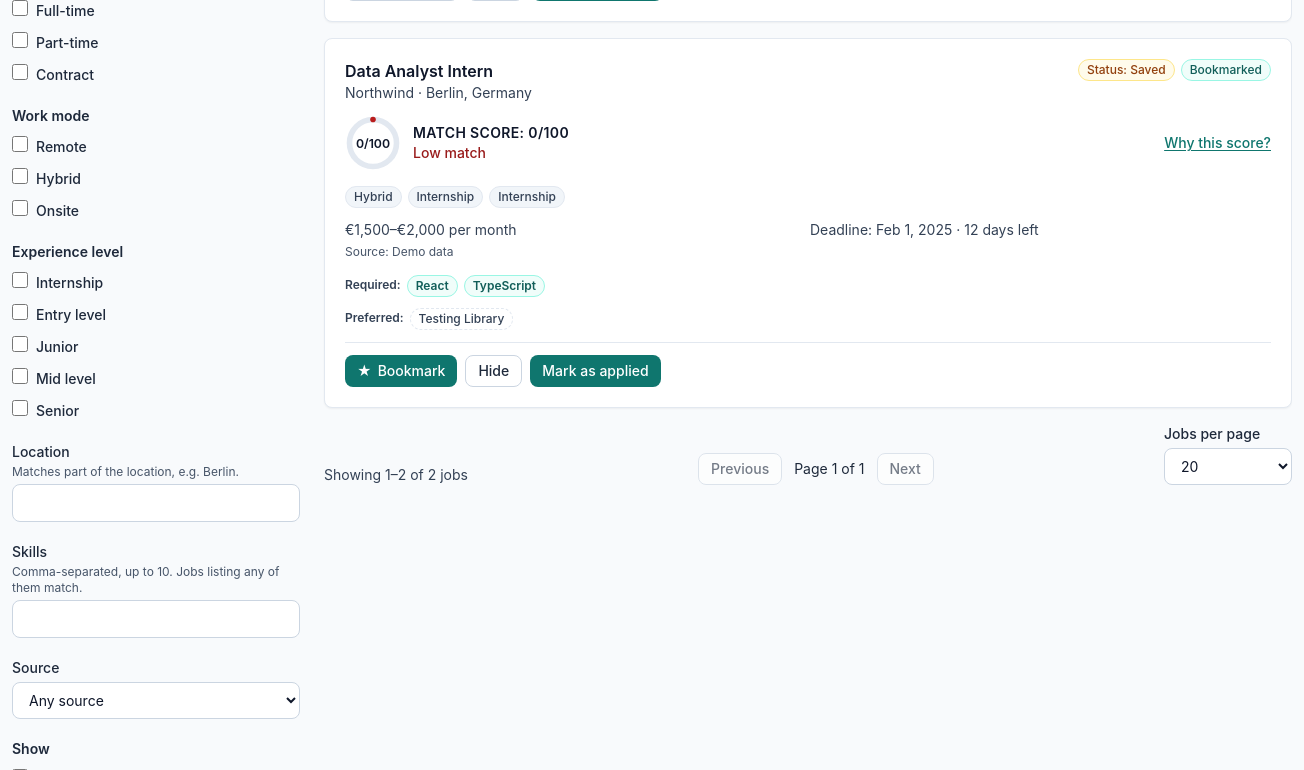
JobsPage › marks a job as applied and toasts with the job title
This screenshot has width=1304, height=770.
(page scrolled)
Expected: the element "Data Analyst Intern" is shown, [324,38,1292,408]
Click the button "Mark as applied" below "Northwind" at (595, 371), box [530,355,661,387]
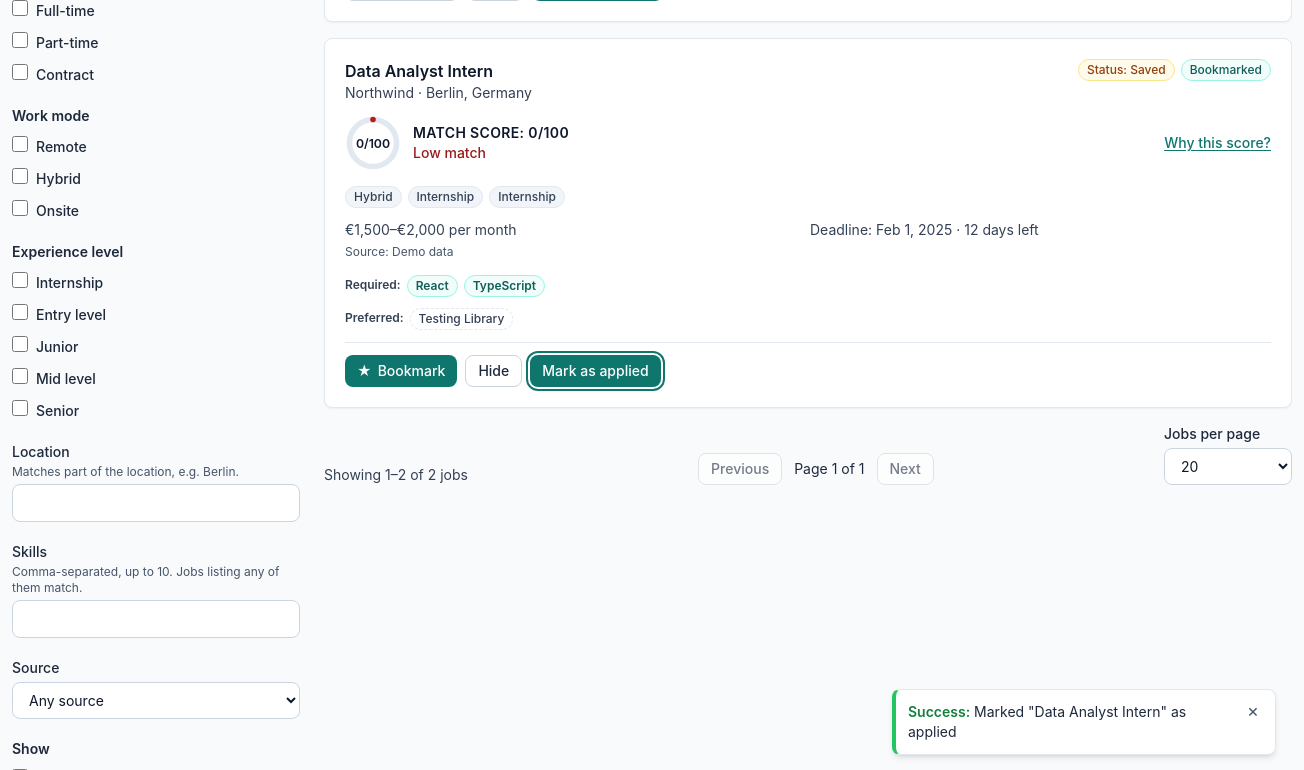
Expected: the text "Marked \"Data Analyst Intern\" as applied" is shown, [908,703,1186,740]
